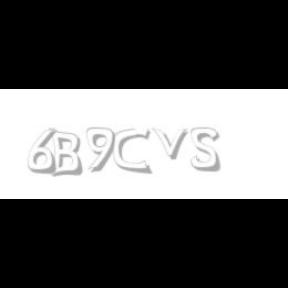6: (28, 128, 57, 176)
9: (86, 128, 115, 172)
B: (48, 128, 82, 178)
C: (114, 128, 150, 174)
S: (190, 128, 222, 172)
v: (152, 128, 192, 160)
